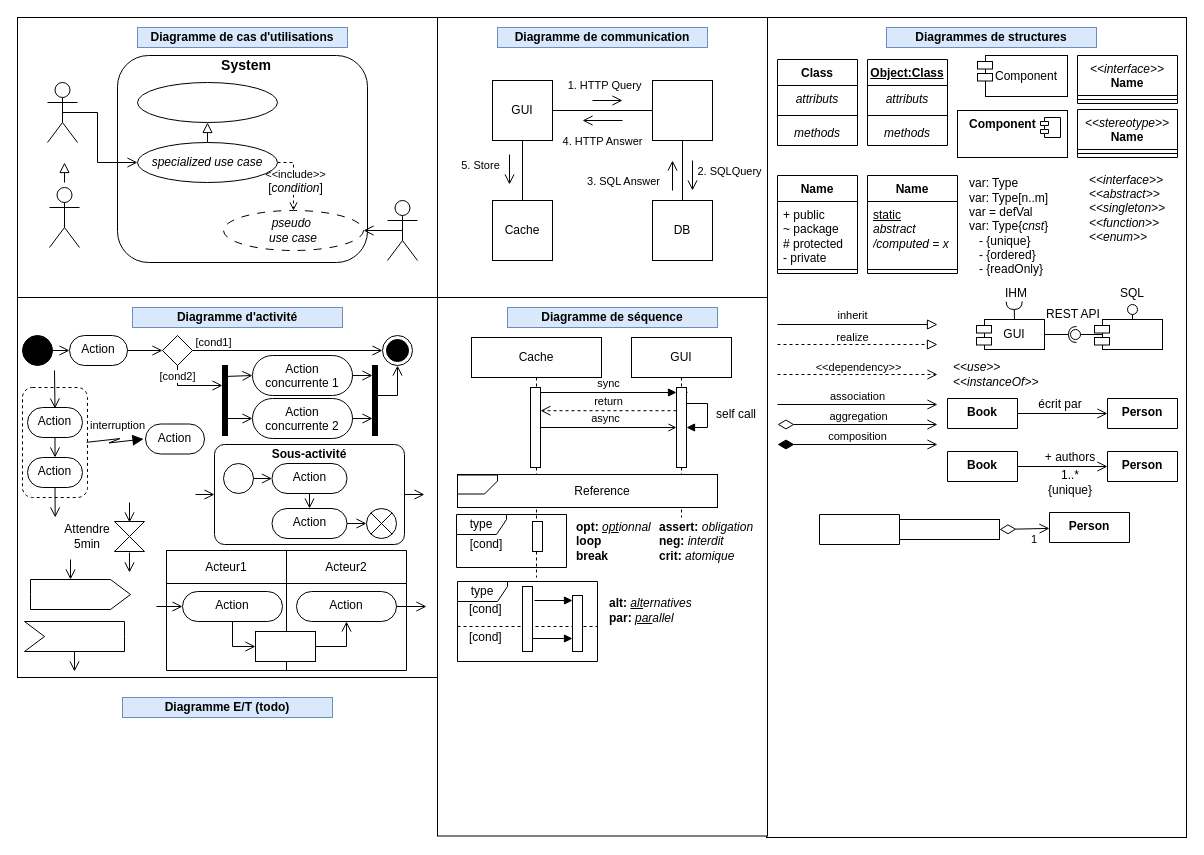
Image size: 1204x855. Some labels were removed from this diagram. Each missing label, with the centre of its shape:
"Actor" belongs at point 62,112.
"Données" belongs at point 285,646.
"Envoyer signal" belongs at point 80,594.
"Promotion" belongs at point 859,529.
"Reception Signal" belongs at point 74,636.
"ref" belongs at point 477,484.
"REST" belongs at point 682,110.
"Server" belongs at point 1132,334.
"Specialized Actor" belongs at point 64,217.
"studentID: string" belongs at point 949,529.
"Supporting Actor" belongs at point 402,230.
"use case" belongs at point 207,102.
